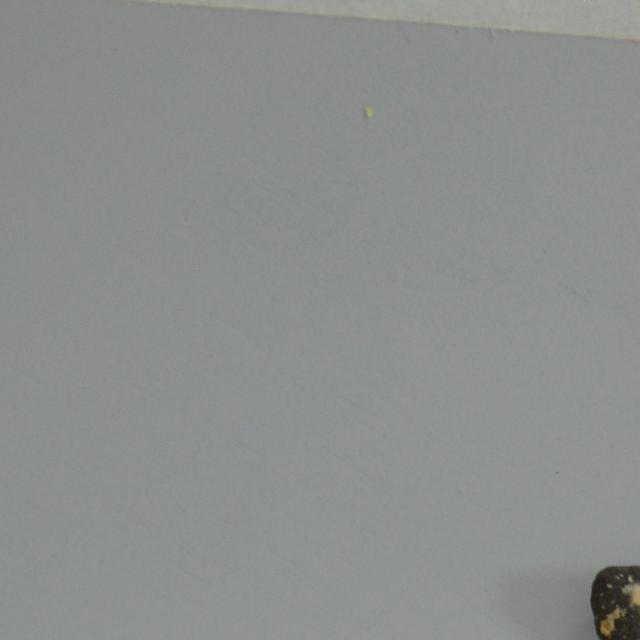cuerpos_extranos: (587, 562, 640, 640)
